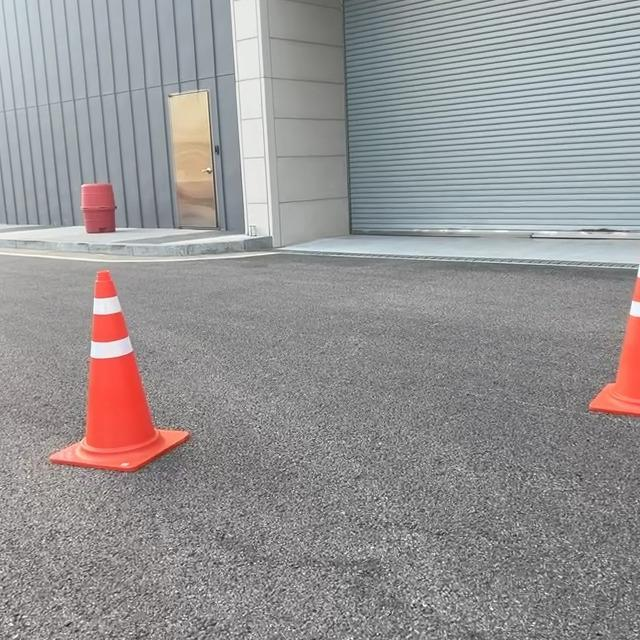fallen_object: (25, 225, 281, 534), (547, 216, 640, 423)
